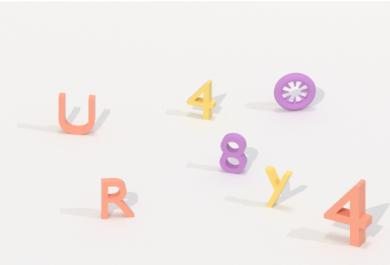0-TronLo: (271, 70, 319, 114)
4: (320, 178, 379, 249), (183, 77, 221, 124)
8: (218, 130, 251, 178)
R: (97, 174, 139, 224)
U: (55, 88, 101, 139)
y: (262, 163, 295, 211)
